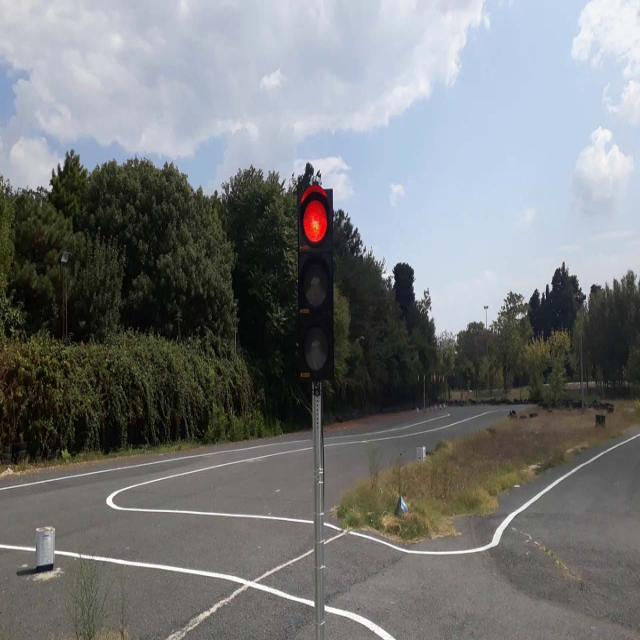kirmizi: (297, 185, 331, 378)
